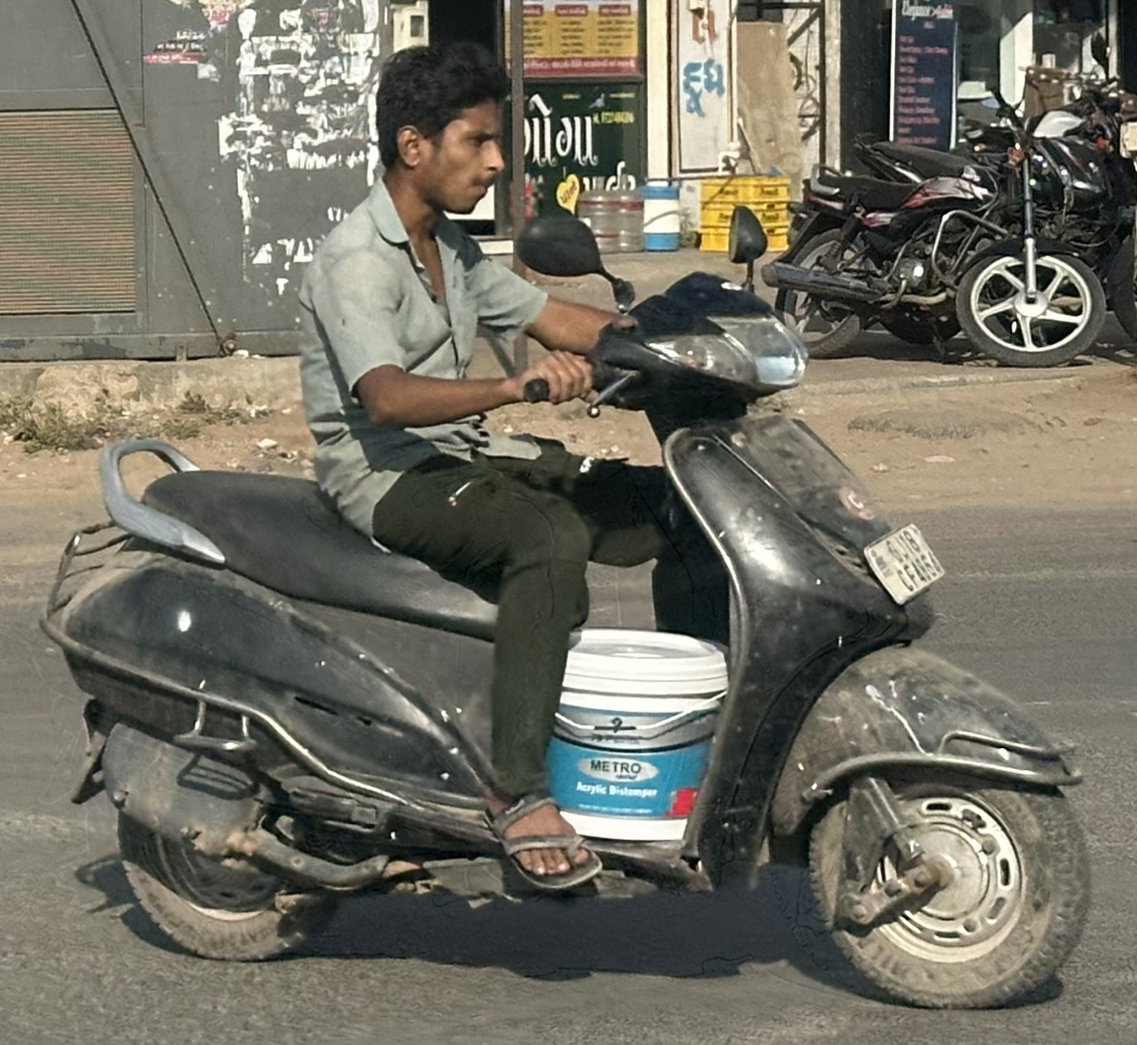BikeWithRider: (25, 36, 1101, 1022)
NoHelmet: (363, 36, 521, 231)
